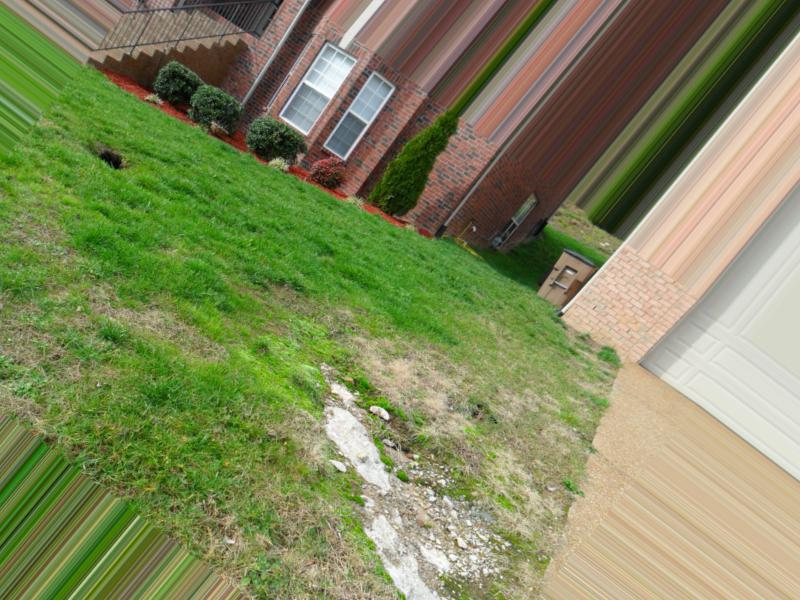patch: (323, 342, 488, 450), (297, 456, 395, 589), (432, 448, 541, 540), (483, 372, 564, 461)
